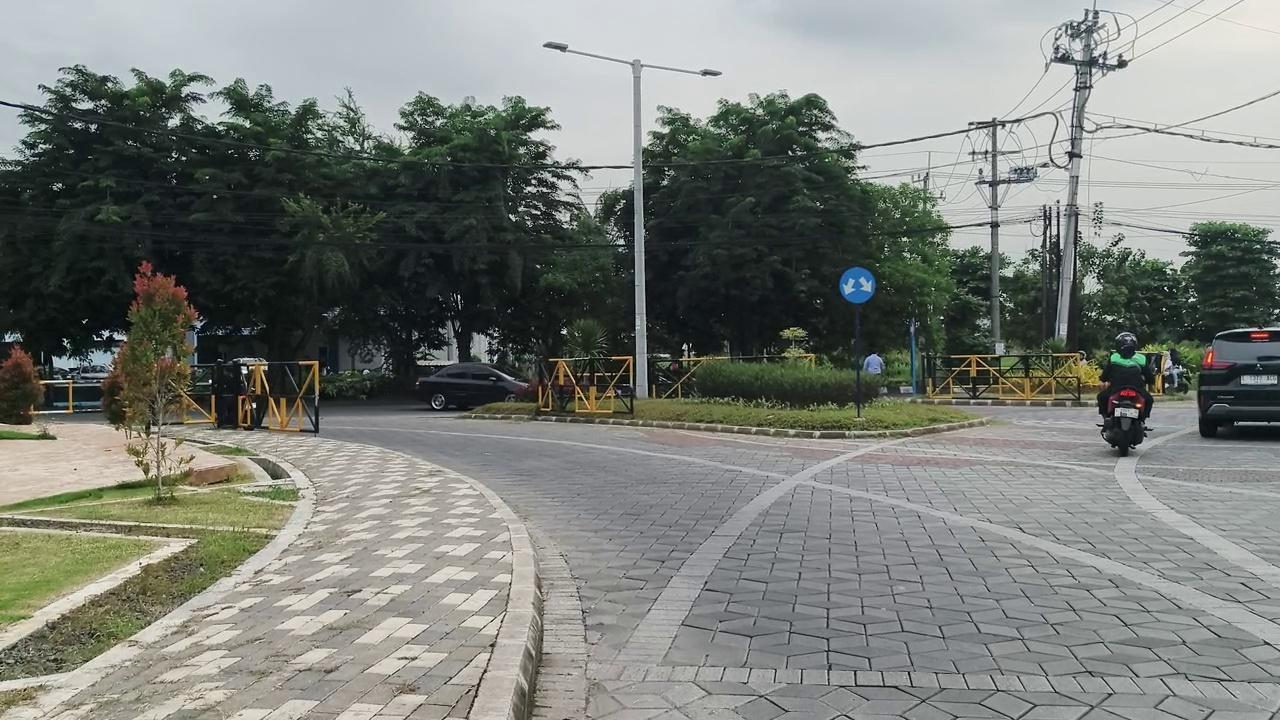Helmet: (1097, 332, 1155, 420)
Motor: (1101, 387, 1145, 456), (1163, 365, 1190, 394)
